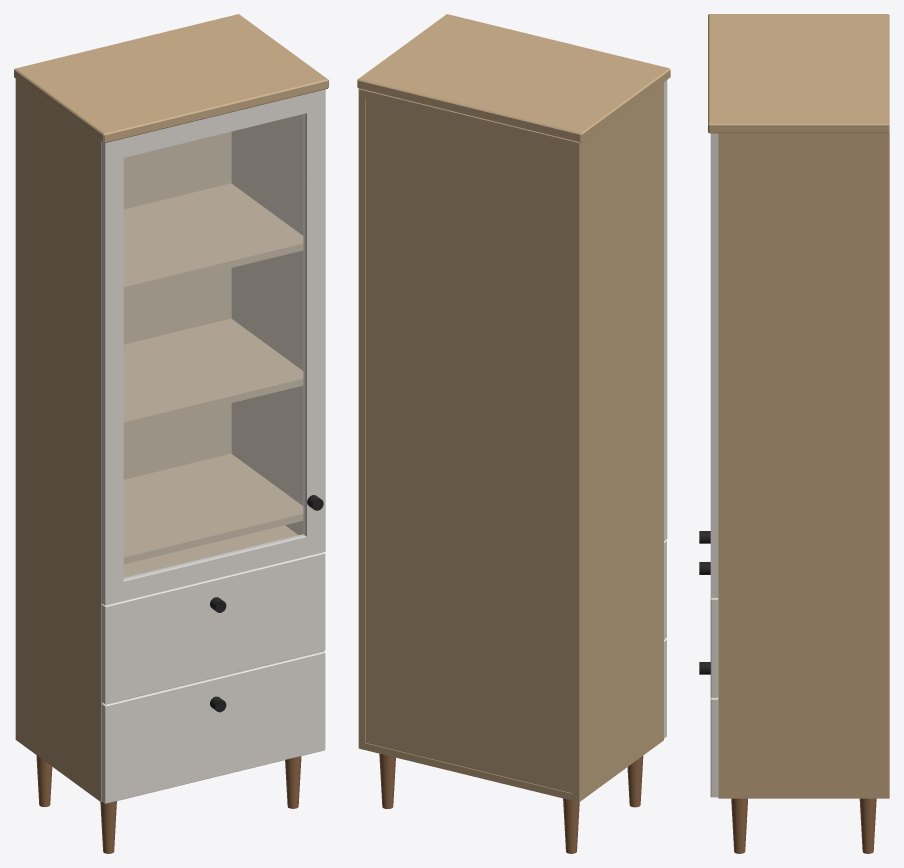
The model's file is 33_witryna_60.glb.
3 renders of one model, left to right at view 1: azimuth 30°, elevation 25°; view 2: azimuth 150°, elevation 25°; view 3: azimuth 270°, elevation 25°, orthographic.
Visible parts, largest first — view 1: Korpus, Szklo_1, Front_witryna_1, Wierzch, Front_szuflada_3, Front_szuflada_2, Nogi, Uchwyty; view 2: Korpus, Wierzch, Nogi, Front_witryna_1; view 3: Korpus, Wierzch, Front_witryna_1, Nogi, Front_szuflada_3, Front_szuflada_2, Uchwyty.
Boxes of the visible parts, x1,y1,x2,y2 form: Korpus: (15, 79, 303, 801); Szklo_1: (124, 114, 305, 579); Front_witryna_1: (101, 89, 325, 605); Wierzch: (14, 14, 328, 143); Front_szuflada_3: (101, 651, 325, 803); Front_szuflada_2: (101, 552, 325, 704); Nogi: (36, 755, 301, 853); Uchwyty: (210, 495, 323, 712); Korpus: (358, 82, 663, 802); Wierzch: (357, 14, 670, 142); Nogi: (379, 753, 643, 853); Front_witryna_1: (664, 80, 667, 540); Korpus: (718, 132, 889, 798); Wierzch: (708, 14, 889, 133); Front_witryna_1: (710, 133, 718, 597); Nogi: (731, 798, 876, 853); Front_szuflada_3: (710, 697, 718, 797); Front_szuflada_2: (710, 598, 718, 697); Uchwyty: (699, 531, 710, 674).
Size of the model in its own units: 0.612 by 1.9 by 0.444.
